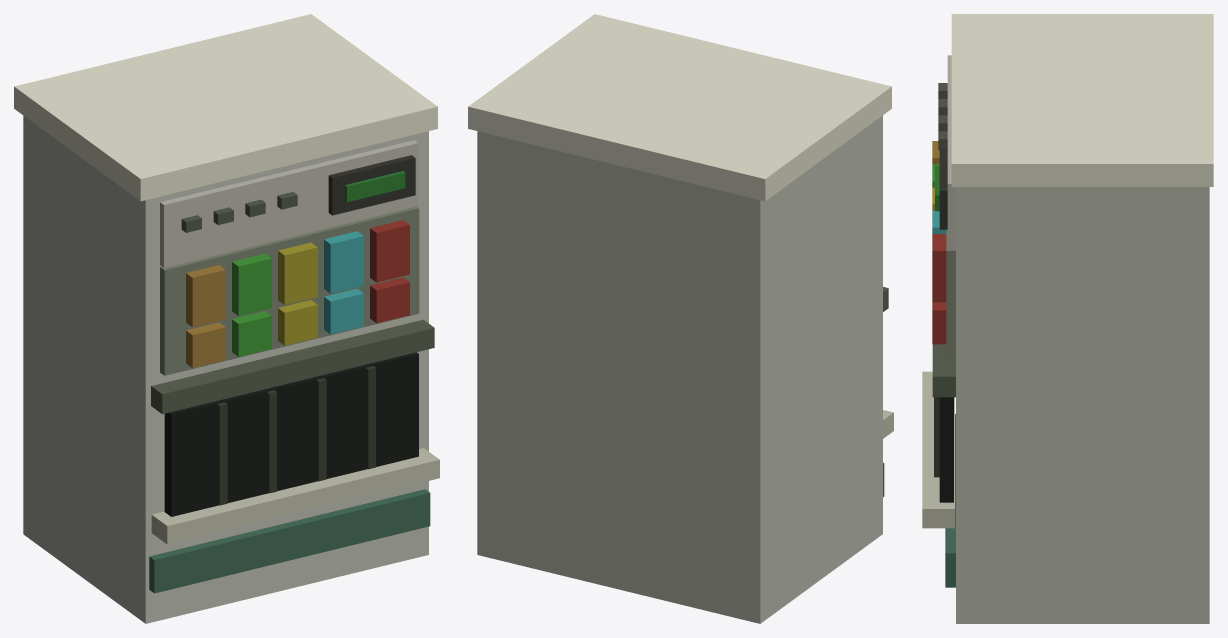
The model's file is CMU3DChemDispenser.glb.
3 renders of one model, left to right at view 1: azimuth 30°, elevation 25°; view 2: azimuth 150°, elevation 25°; view 3: azimuth 270°, elevation 25°, orthographic. The views are drawn at different scales.
Parts seen in each view (by area): view 1: dispenser cabinet, top cap, black dispensing row, upper control fascia, colored reagent key (×5), green base band, reagent key fascia, dispense upper lip, dispense lower lip, reagent key bottom (×5), dispensing bay divider (×4), upper readout bezel (+1 smaller); view 2: dispenser cabinet, top cap; view 3: dispenser cabinet, top cap, dispense lower lip, black dispensing row, upper control fascia, reagent key fascia, dispense upper lip, colored reagent key, green base band, upper readout bezel, reagent key bottom, dispensing bay divider.
Boxes of the visible parts, <box> form: dispenser cabinet: <box>23,116,428,623</box>; top cap: <box>14,14,437,201</box>; black dispensing row: <box>164,352,418,516</box>; upper control fascia: <box>160,140,418,267</box>; colored reagent key (×5): <box>186,220,409,327</box>; green base band: <box>149,489,430,593</box>; reagent key fascia: <box>160,206,419,375</box>; dispense upper lip: <box>151,319,434,414</box>; dispense lower lip: <box>151,448,439,544</box>; reagent key bottom (×5): <box>186,277,409,368</box>; dispensing bay divider (×4): <box>217,366,375,505</box>; upper readout bezel: <box>328,155,415,215</box>; dispenser cabinet: <box>477,115,882,623</box>; top cap: <box>468,14,891,201</box>; dispenser cabinet: <box>956,187,1209,623</box>; top cap: <box>951,14,1213,186</box>; dispense lower lip: <box>922,371,954,528</box>; black dispensing row: <box>939,397,953,502</box>; upper control fascia: <box>947,55,955,248</box>; reagent key fascia: <box>946,229,955,360</box>; dispense upper lip: <box>932,344,955,397</box>; colored reagent key: <box>932,234,946,302</box>; green base band: <box>945,414,955,587</box>; upper readout bezel: <box>939,149,947,229</box>; reagent key bottom: <box>932,302,946,344</box>; dispensing bay divider: <box>934,397,939,477</box>.
Bounding box in the file's own units: 0.84 × 1.21 × 0.69.
